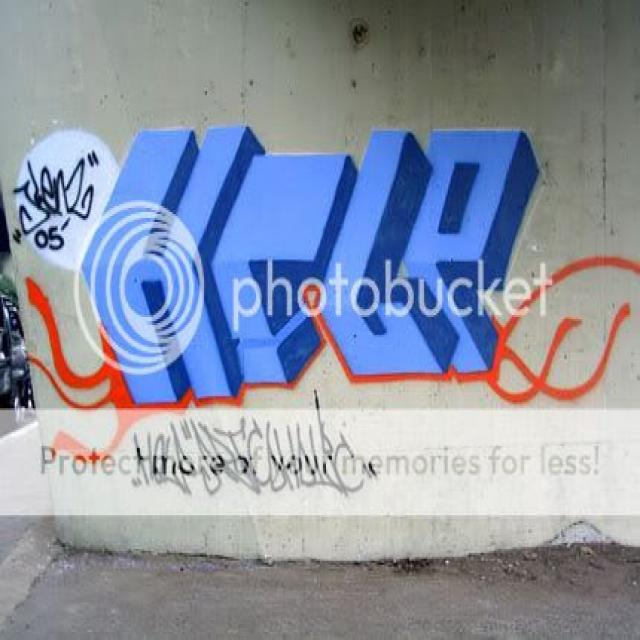-: (8, 120, 640, 471), (130, 389, 378, 498), (8, 143, 100, 255)
